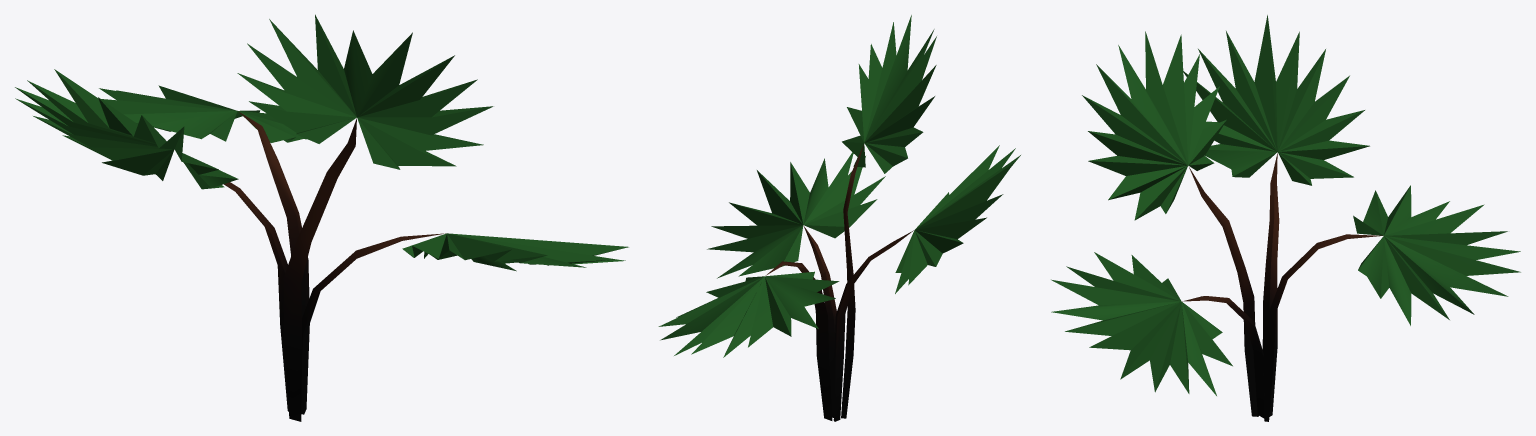
The model's file is SM_SmallPalm_1.FBX.
The picture shows the model from 3 angles, left to right: view 1: azimuth 30°, elevation 25°; view 2: azimuth 150°, elevation 25°; view 3: azimuth 270°, elevation 25°; orthographic projection. The views are drawn at different scales.
Parts seen in each view (by area): view 1: SM_SmallPalm_1_LOD0; view 2: SM_SmallPalm_1_LOD0; view 3: SM_SmallPalm_1_LOD0.
Boxes of the visible parts, bbox=[...] form: SM_SmallPalm_1_LOD0: bbox=[15, 14, 628, 421]; SM_SmallPalm_1_LOD0: bbox=[658, 15, 1020, 421]; SM_SmallPalm_1_LOD0: bbox=[1051, 15, 1520, 421].
Size of what is drawn, in the model's own units: 223 by 243 by 208.
